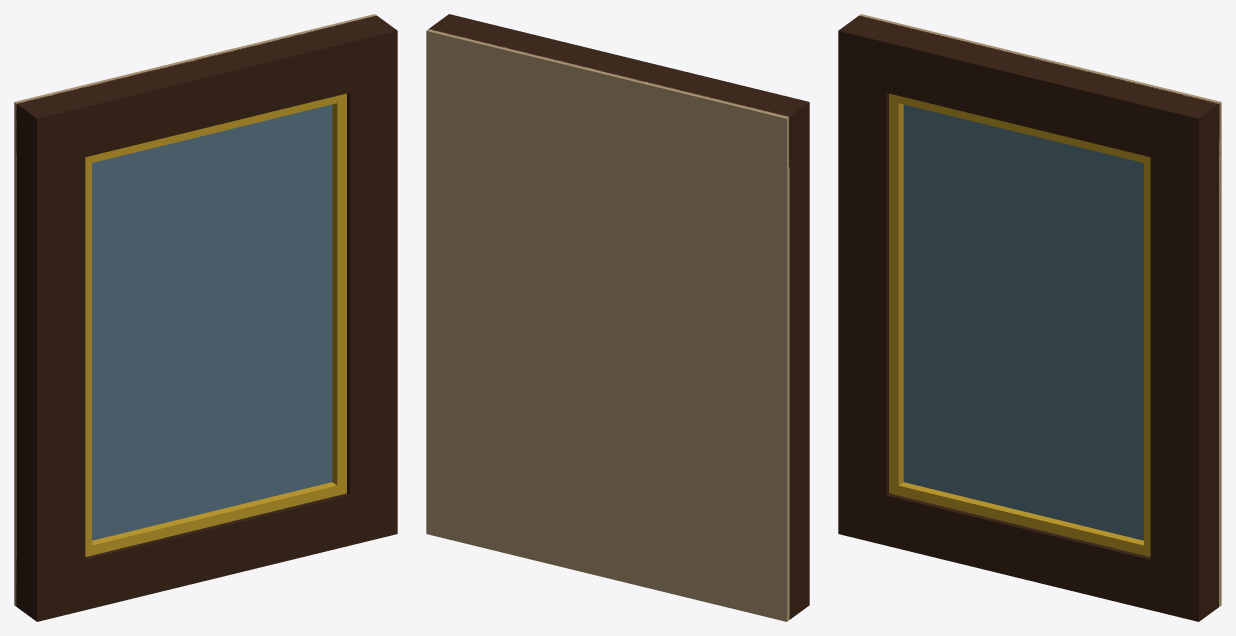
Rendered from FramePortrait.fbx.
3 renders of one model, left to right at view 1: azimuth 30°, elevation 25°; view 2: azimuth 150°, elevation 25°; view 3: azimuth 330°, elevation 25°, orthographic.
Parts seen in each view (by area): view 1: FramePortrait; view 2: FramePortrait; view 3: FramePortrait.
Boxes of the visible parts, <box> form: FramePortrait: <box>14,14,397,621</box>; FramePortrait: <box>426,14,809,621</box>; FramePortrait: <box>838,14,1221,621</box>.
Size of the model in its own units: 30 by 40 by 3.3.
